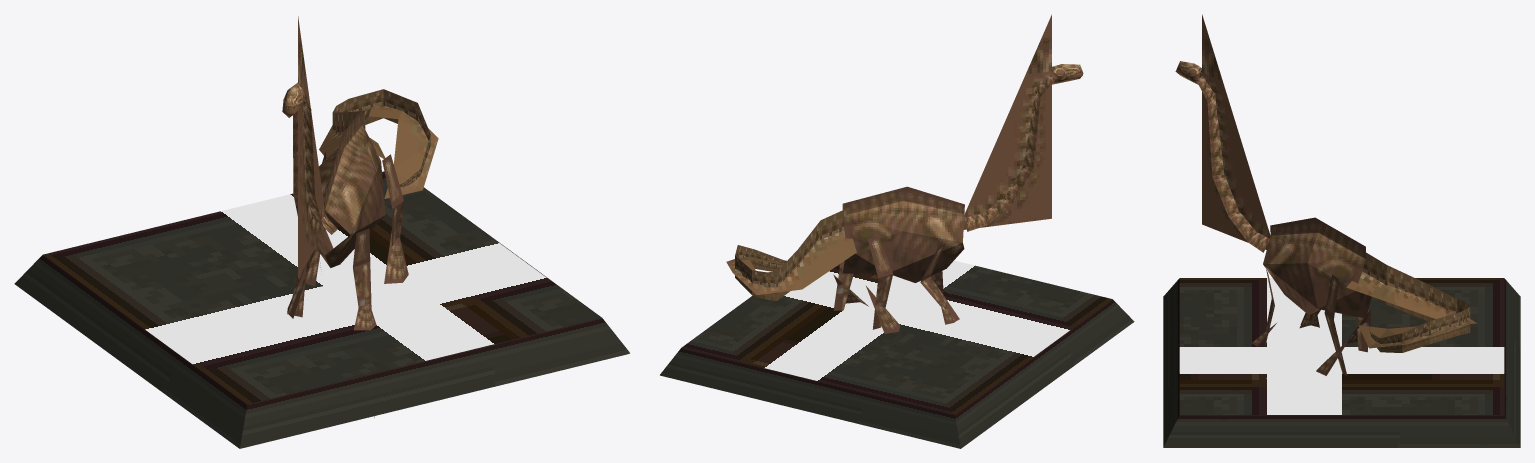
The model's file is int_din_apt_m.dae.
3 views of the same model, side by side, from view 1: azimuth 30°, elevation 25°; view 2: azimuth 150°, elevation 25°; view 3: azimuth 270°, elevation 25° (orthographic). The views are drawn at different scales.
Parts seen in each view (by area): view 1: int_din_apt_m; view 2: int_din_apt_m; view 3: int_din_apt_m.
Boxes of the visible parts, bbox=[...] form: int_din_apt_m: bbox=[14, 16, 629, 448]; int_din_apt_m: bbox=[660, 14, 1134, 448]; int_din_apt_m: bbox=[1163, 14, 1520, 447].
Size of the model in its own units: 26.68 by 29.6 by 26.65.
Materials: 4 (4 with a texture image).
